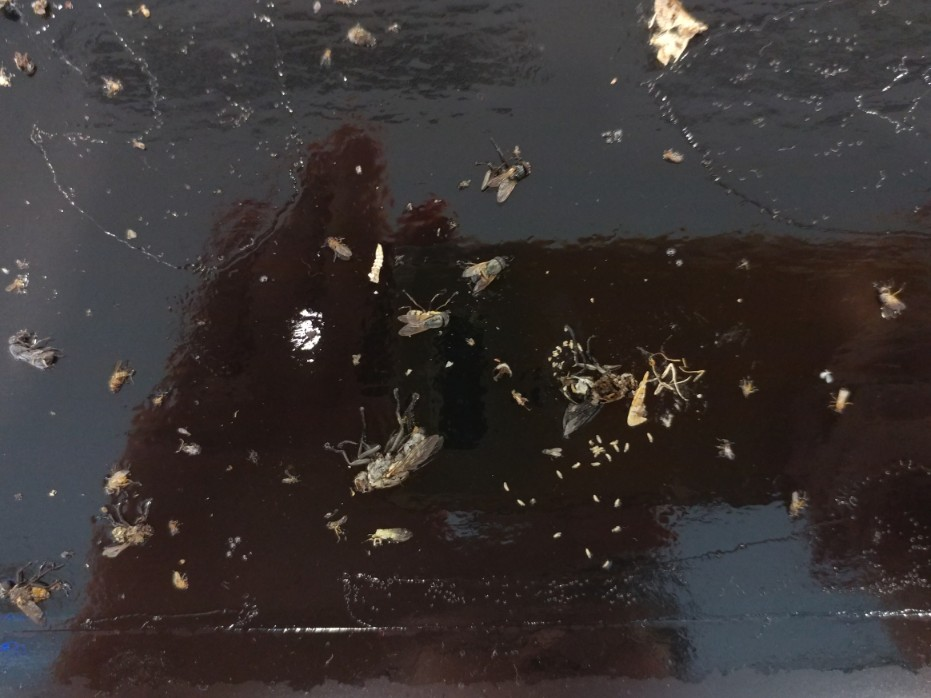fly: (301, 386, 451, 506), (547, 340, 639, 443), (475, 148, 540, 210), (396, 293, 463, 341), (453, 248, 518, 296)
